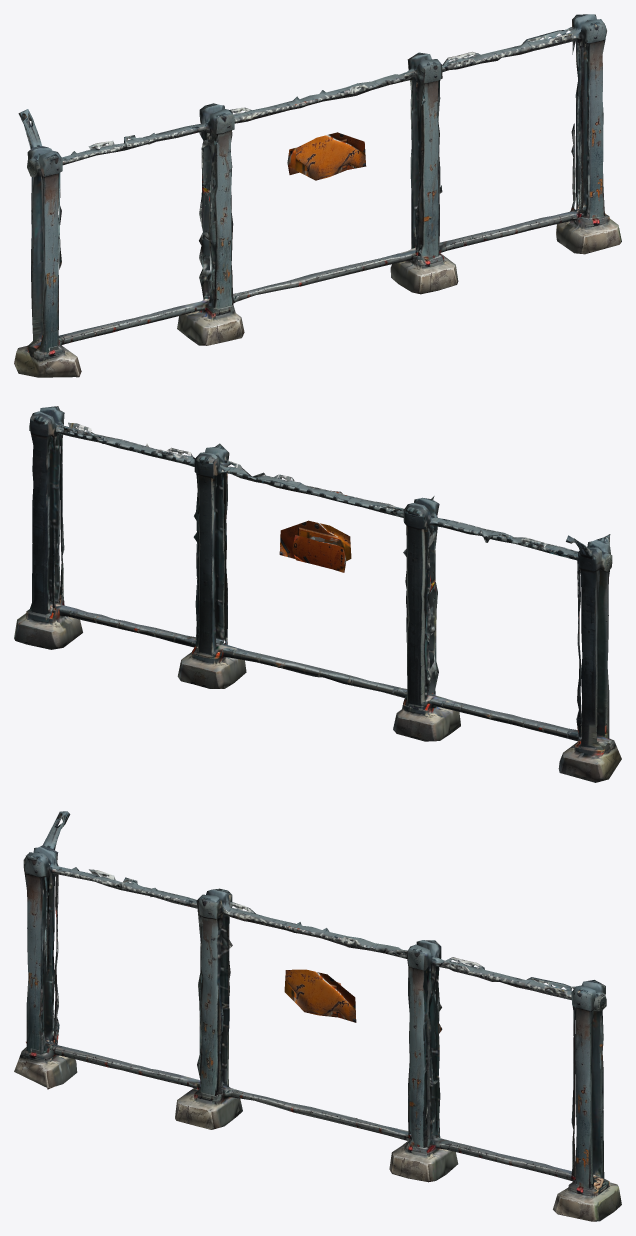
The model's file is EX_Lab_Fence.fbx.
The picture shows the model from 3 angles, top to bottom: view 1: azimuth 30°, elevation 25°; view 2: azimuth 150°, elevation 25°; view 3: azimuth 330°, elevation 25°; orthographic projection.
Parts seen in each view (by area): view 1: texture_mapping; view 2: texture_mapping; view 3: texture_mapping.
Part boxes in pixels (box(x1,y1,x2,y2)): texture_mapping: box(14, 14, 621, 377); texture_mapping: box(14, 406, 621, 782); texture_mapping: box(14, 811, 621, 1221).
Bounding box in the file's own units: 0.9499 × 0.1084 × 0.3841.
1 material, 1 textured.
